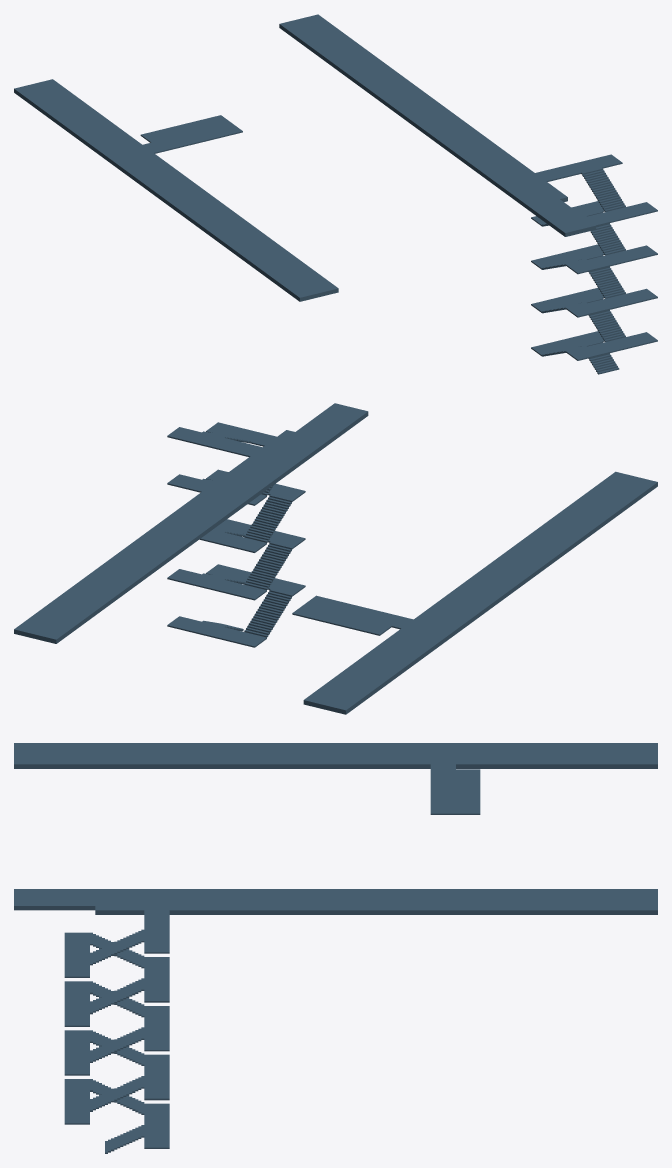
Rendered from v02-02-06-deck.glb.
3 renders of one model, top to bottom at view 1: azimuth 30°, elevation 25°; view 2: azimuth 150°, elevation 25°; view 3: azimuth 270°, elevation 25°, orthographic. The views are drawn at different scales.
Visible parts, largest first — view 1: v02-02-06-deck; view 2: v02-02-06-deck; view 3: v02-02-06-deck.
Boxes of the visible parts, x1,y1,x2,y2 form: v02-02-06-deck: (14,14,657,374); v02-02-06-deck: (14,403,657,714); v02-02-06-deck: (14,743,657,1153).
Bounding box in the file's own units: 58.8 × 27.91 × 76.5.
